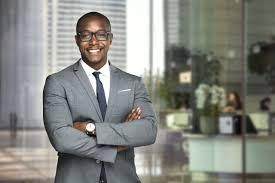Persons: (58, 9, 124, 71)
